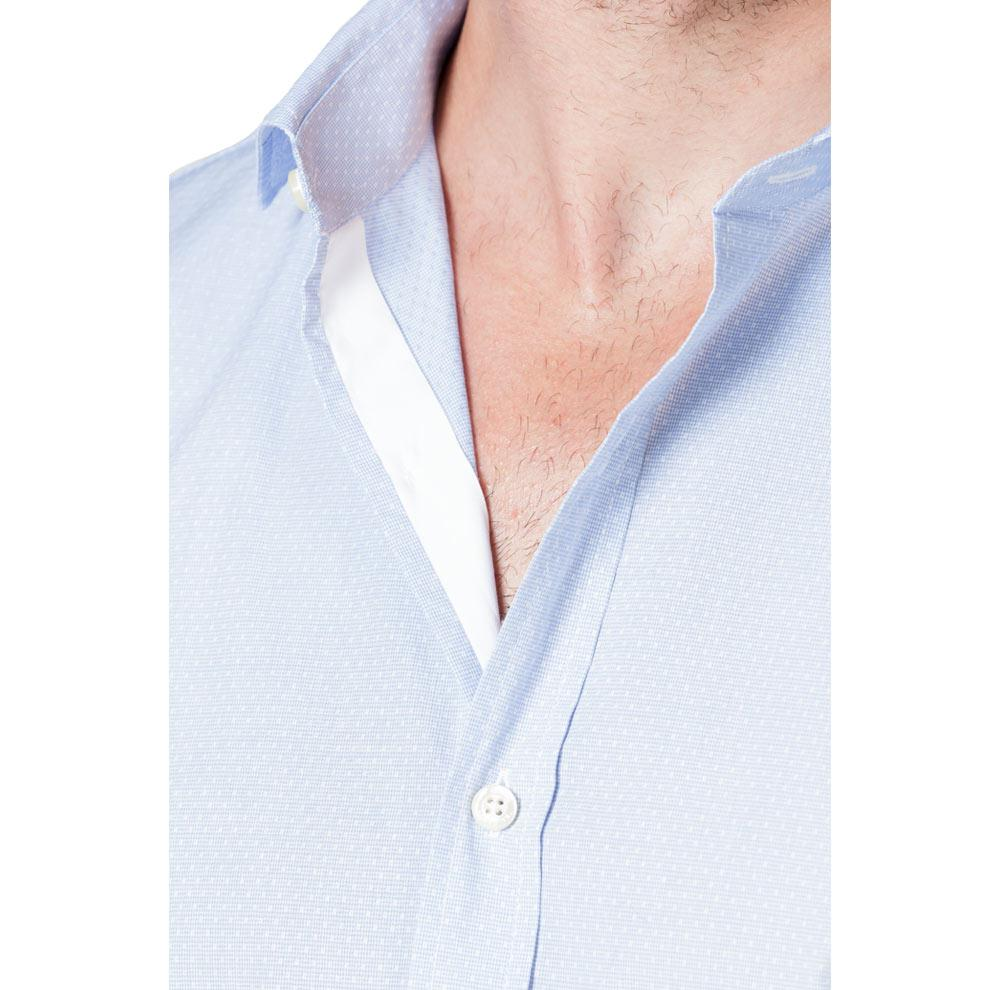teeshirt: (164, 93, 879, 990)
